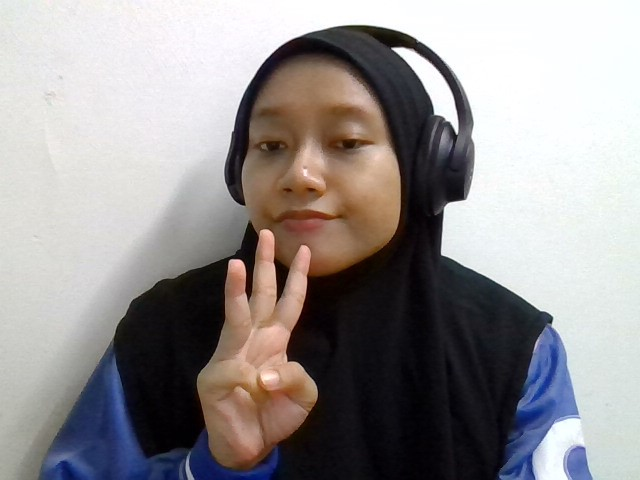Air: (198, 206, 345, 456)
